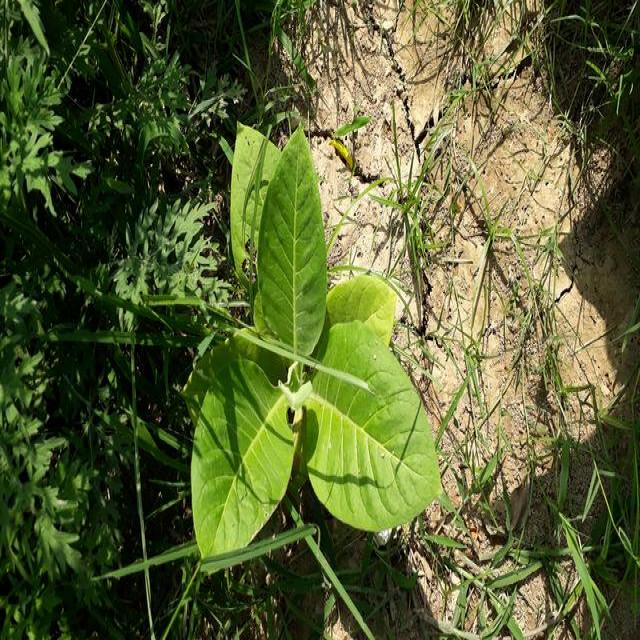crop: (188, 128, 446, 566)
